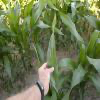Corn leaf blight: (47, 8, 57, 68)
